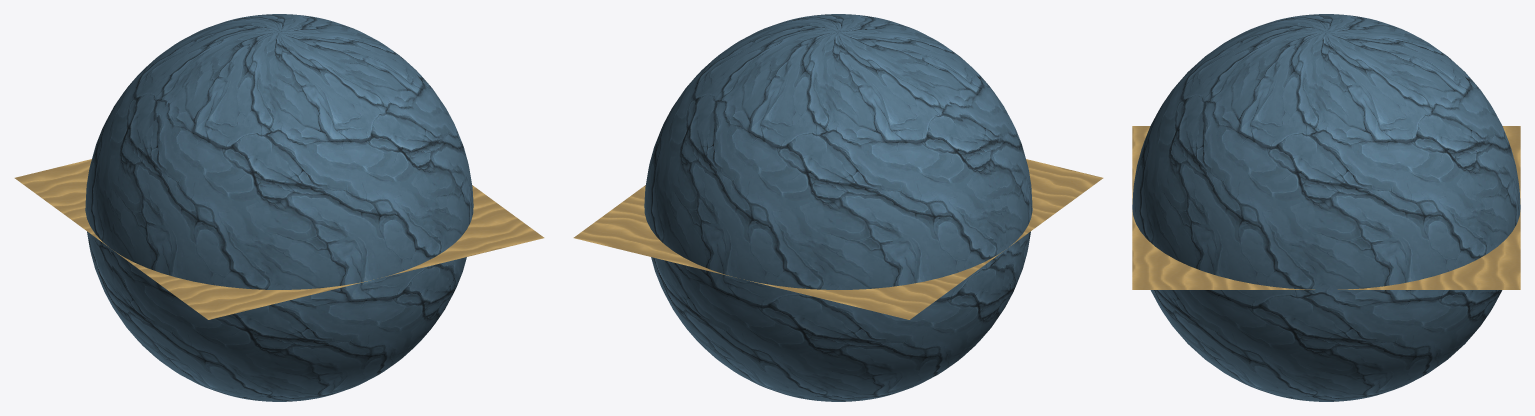
File: Stadium.glb
The picture shows the model from 3 angles, left to right: view 1: azimuth 30°, elevation 25°; view 2: azimuth 150°, elevation 25°; view 3: azimuth 270°, elevation 25°; orthographic projection.
Parts seen in each view (by area): view 1: Sphere, Plane.001; view 2: Sphere, Plane.001; view 3: Sphere, Plane.001.
Boxes of the visible parts, box(x1,y1,x2,y2) form: Sphere: box(85, 14, 473, 401); Plane.001: box(14, 159, 544, 319); Sphere: box(644, 14, 1032, 401); Plane.001: box(573, 159, 1103, 319); Sphere: box(1132, 14, 1520, 401); Plane.001: box(1132, 126, 1520, 289).
Size of the model in its own units: 25 by 25 by 25.
3 materials, 3 textured.
